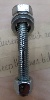FinishedAssembly: (10, 3, 36, 97)
